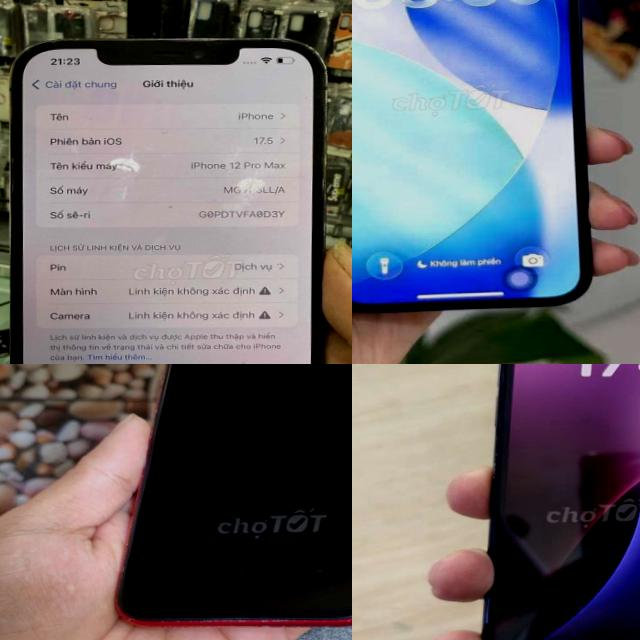gen_11: (435, 364, 640, 640)
gen_12_13: (2, 29, 331, 364), (352, 0, 594, 312)
gen_x_xs: (118, 364, 352, 624), (118, 364, 352, 623)
